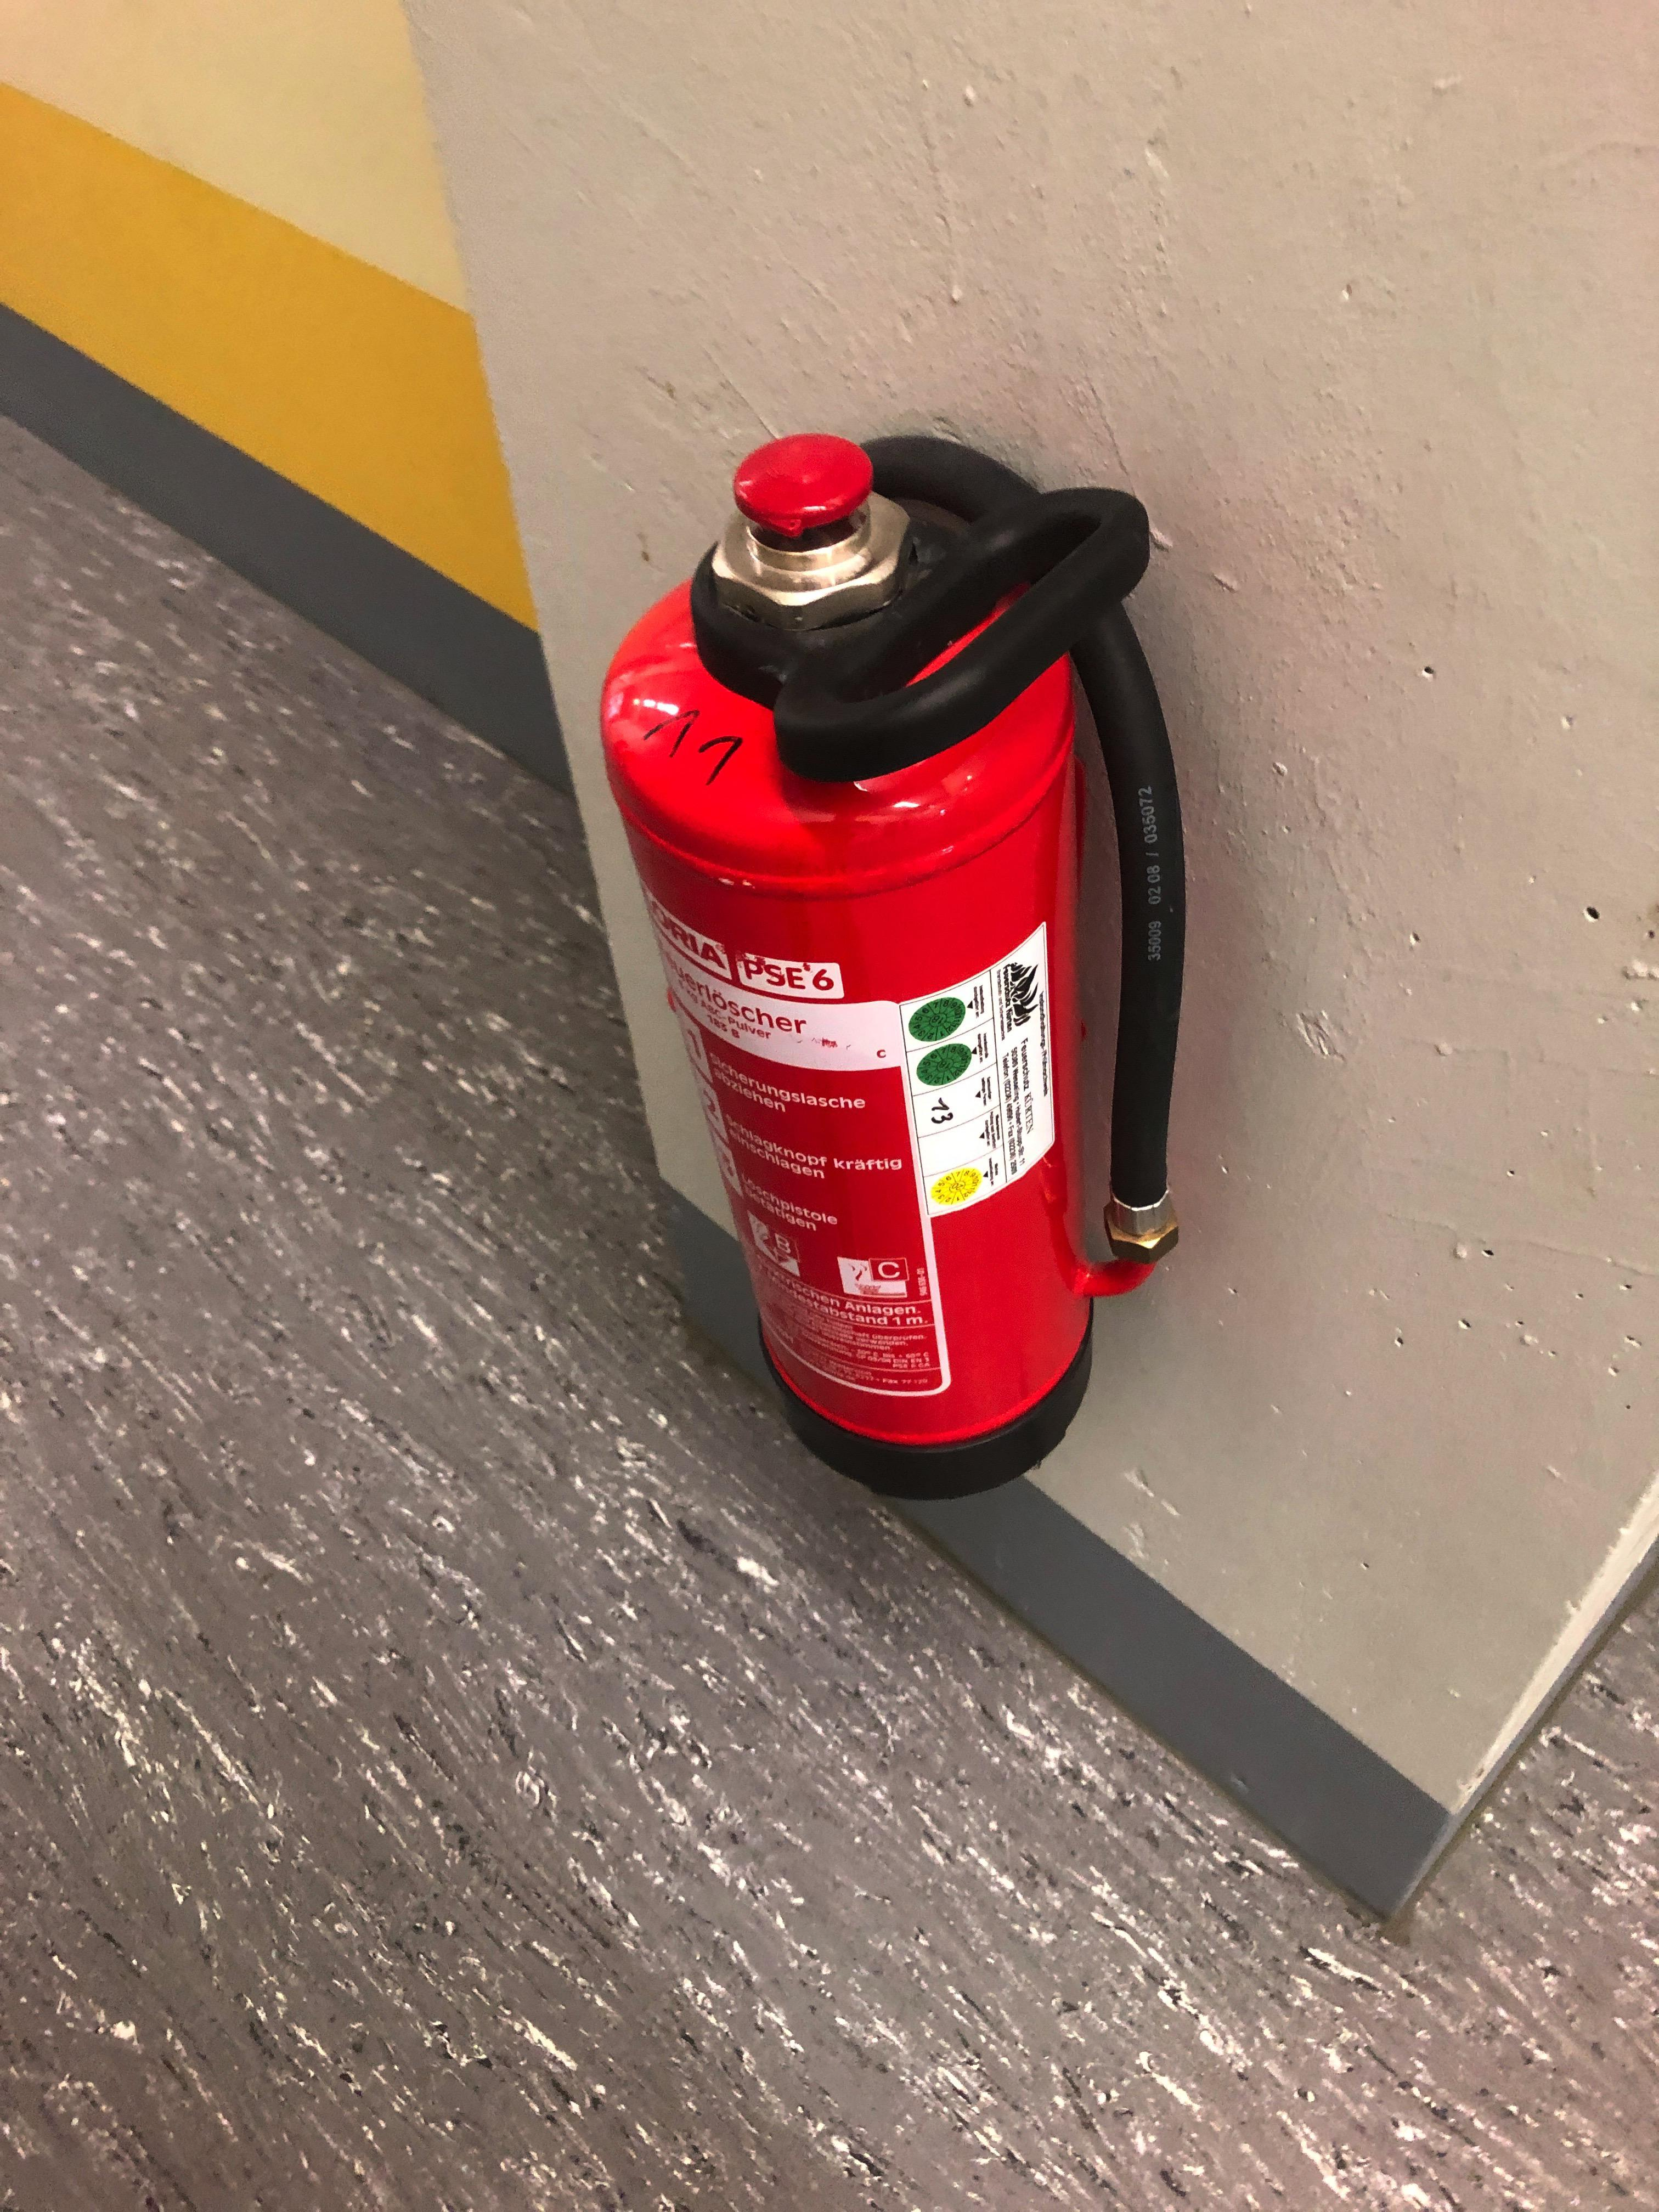extinguisher: (586, 427, 1194, 1510)
